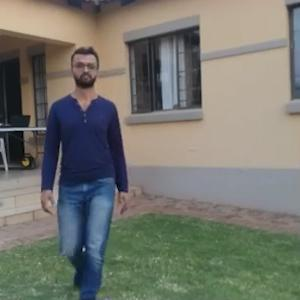follow: (38, 48, 129, 299)
